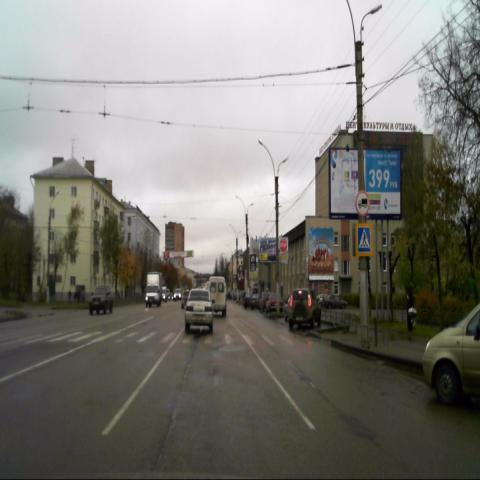3_4_1: (355, 190, 369, 216)
